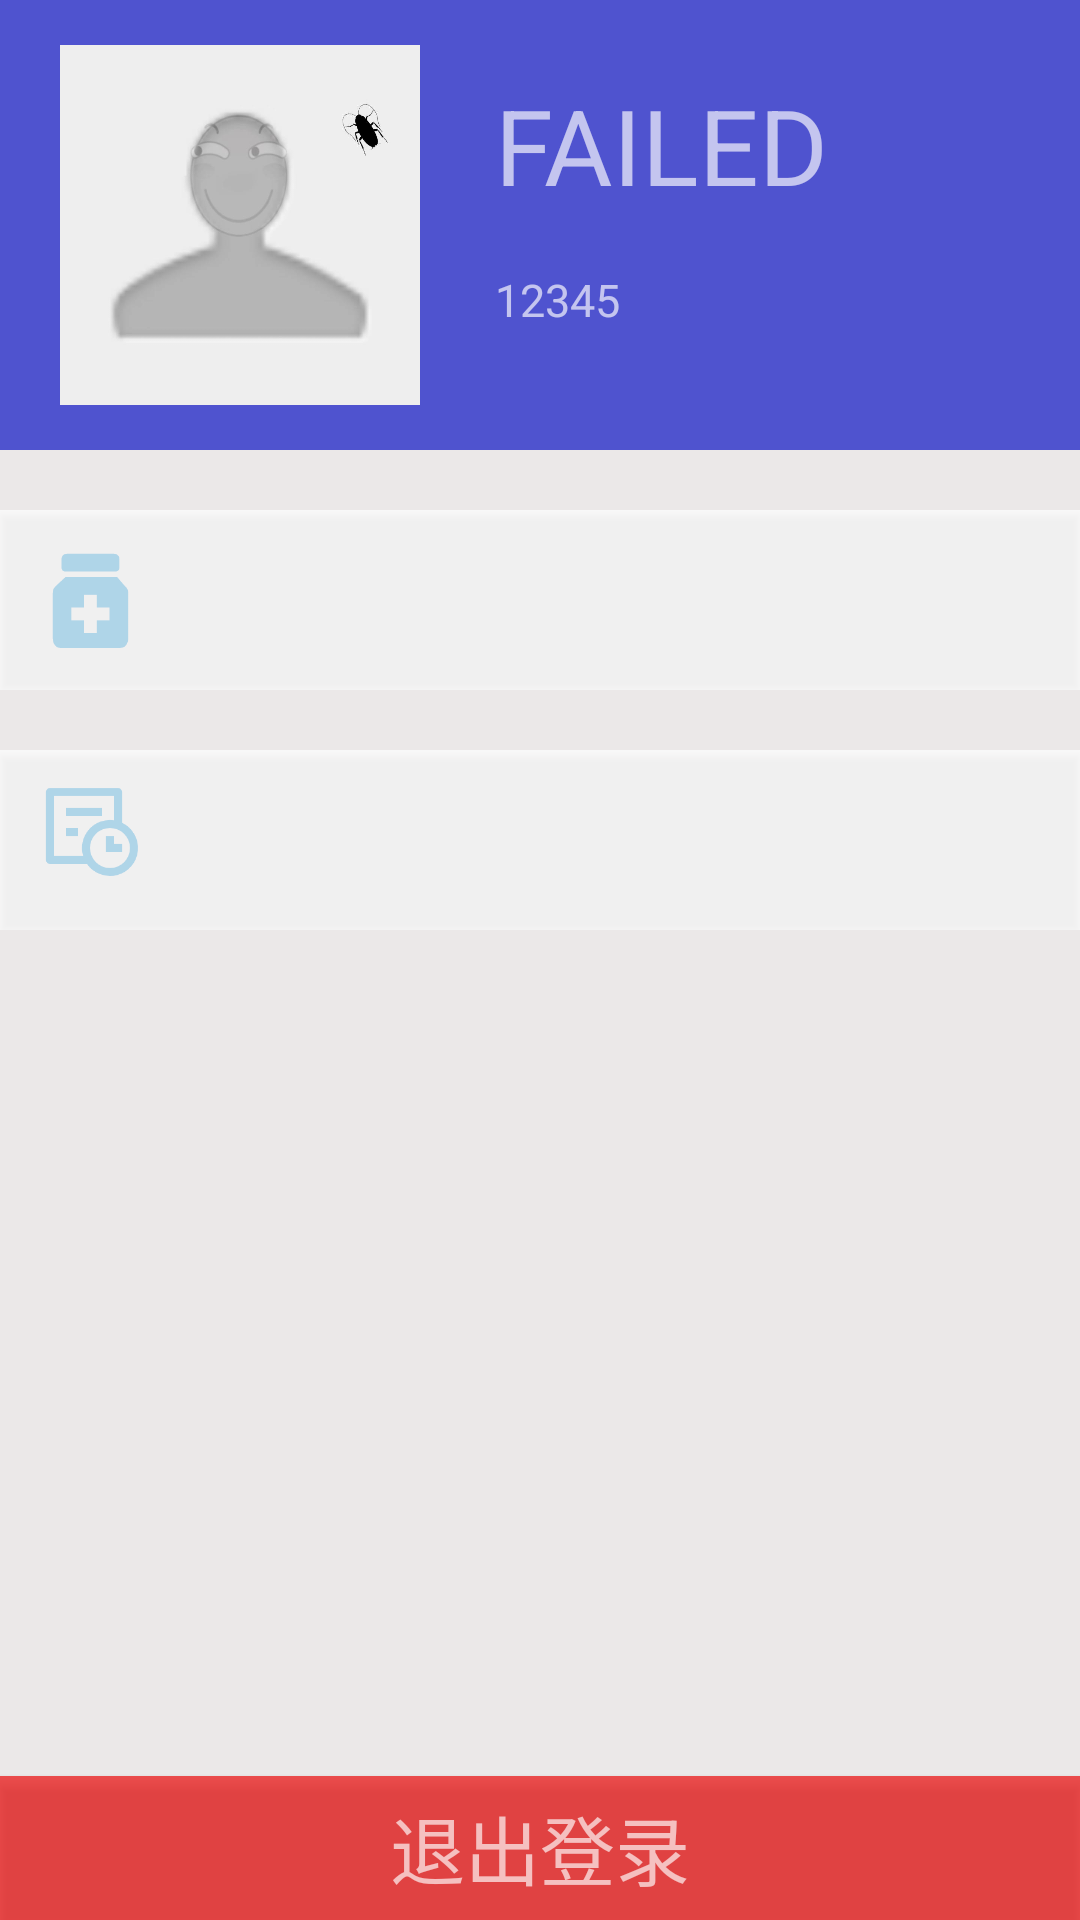

Icon click points for this 1080×1920 phone screenshot, format point (x, y):
history: point (92, 832)
medicine: point (90, 601)
profile: point (240, 225)
